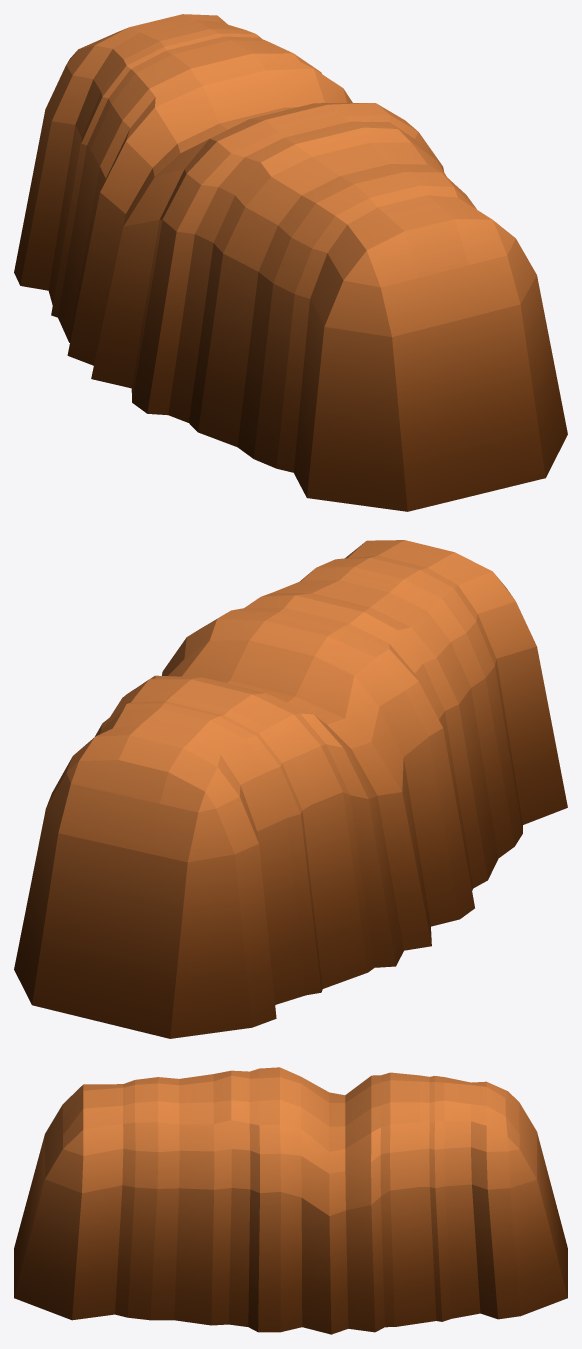
The model's file is bg_uluru.fbx.
The picture shows the model from 3 angles, top to bottom: view 1: azimuth 30°, elevation 25°; view 2: azimuth 150°, elevation 25°; view 3: azimuth 270°, elevation 25°; orthographic projection. The views are drawn at different scales.
Parts seen in each view (by area): view 1: bg_Uluru; view 2: bg_Uluru; view 3: bg_Uluru.
Boxes of the visible parts, <box> form: bg_Uluru: <box>14,14,567,511</box>; bg_Uluru: <box>14,540,567,1038</box>; bg_Uluru: <box>14,1067,567,1334</box>.
Bounding box in the file's own units: 127 × 89.17 × 242.
